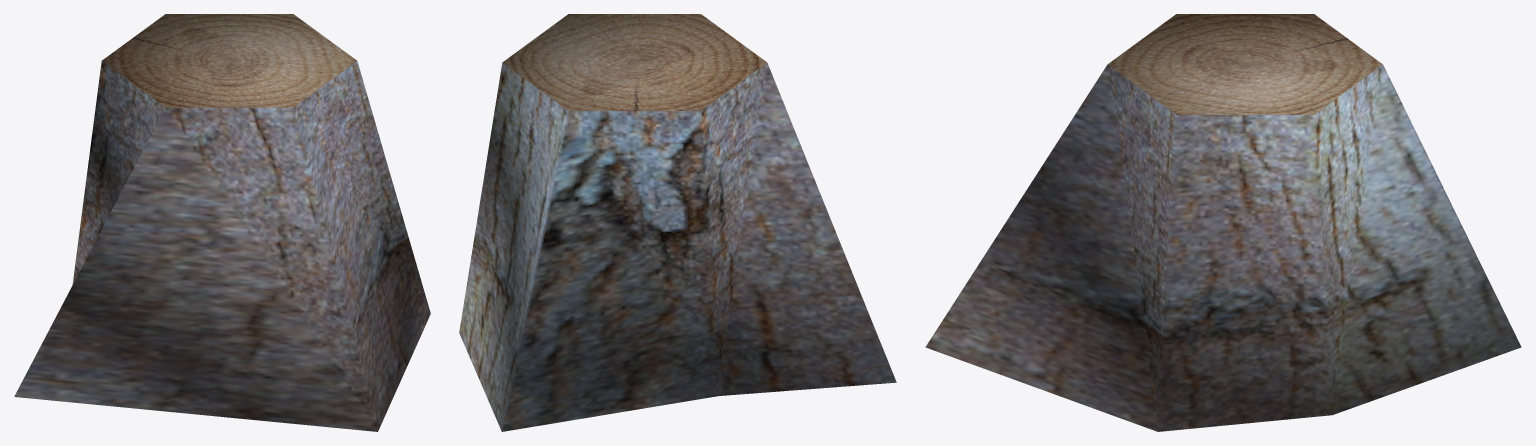
The model's file is Tree_Stump_1.fbx.
3 renders of one model, left to right at view 1: azimuth 30°, elevation 25°; view 2: azimuth 150°, elevation 25°; view 3: azimuth 270°, elevation 25°, orthographic. The views are drawn at different scales.
Visible parts, largest first — view 1: Tree_Stump_1; view 2: Tree_Stump_1; view 3: Tree_Stump_1.
Part boxes in pixels (left/top/right/bottom): Tree_Stump_1: left=14, top=14, right=430, bottom=431; Tree_Stump_1: left=459, top=14, right=896, bottom=431; Tree_Stump_1: left=925, top=14, right=1521, bottom=431.
Size of the model in its own units: 2.12 by 1.36 by 2.58.
